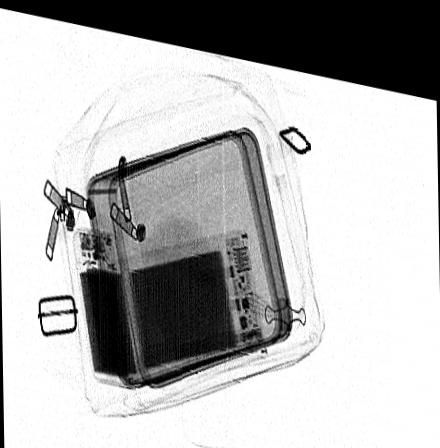Powerbank: (113, 219, 268, 381), (71, 223, 136, 384)
